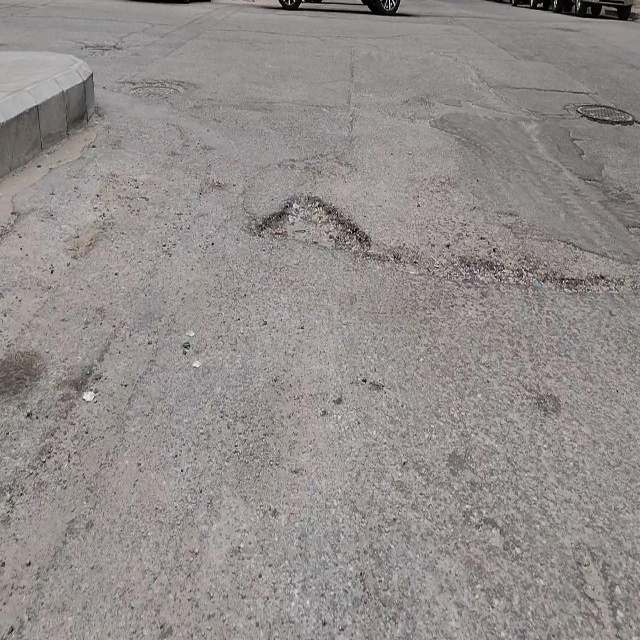pothole: (255, 191, 373, 261)
